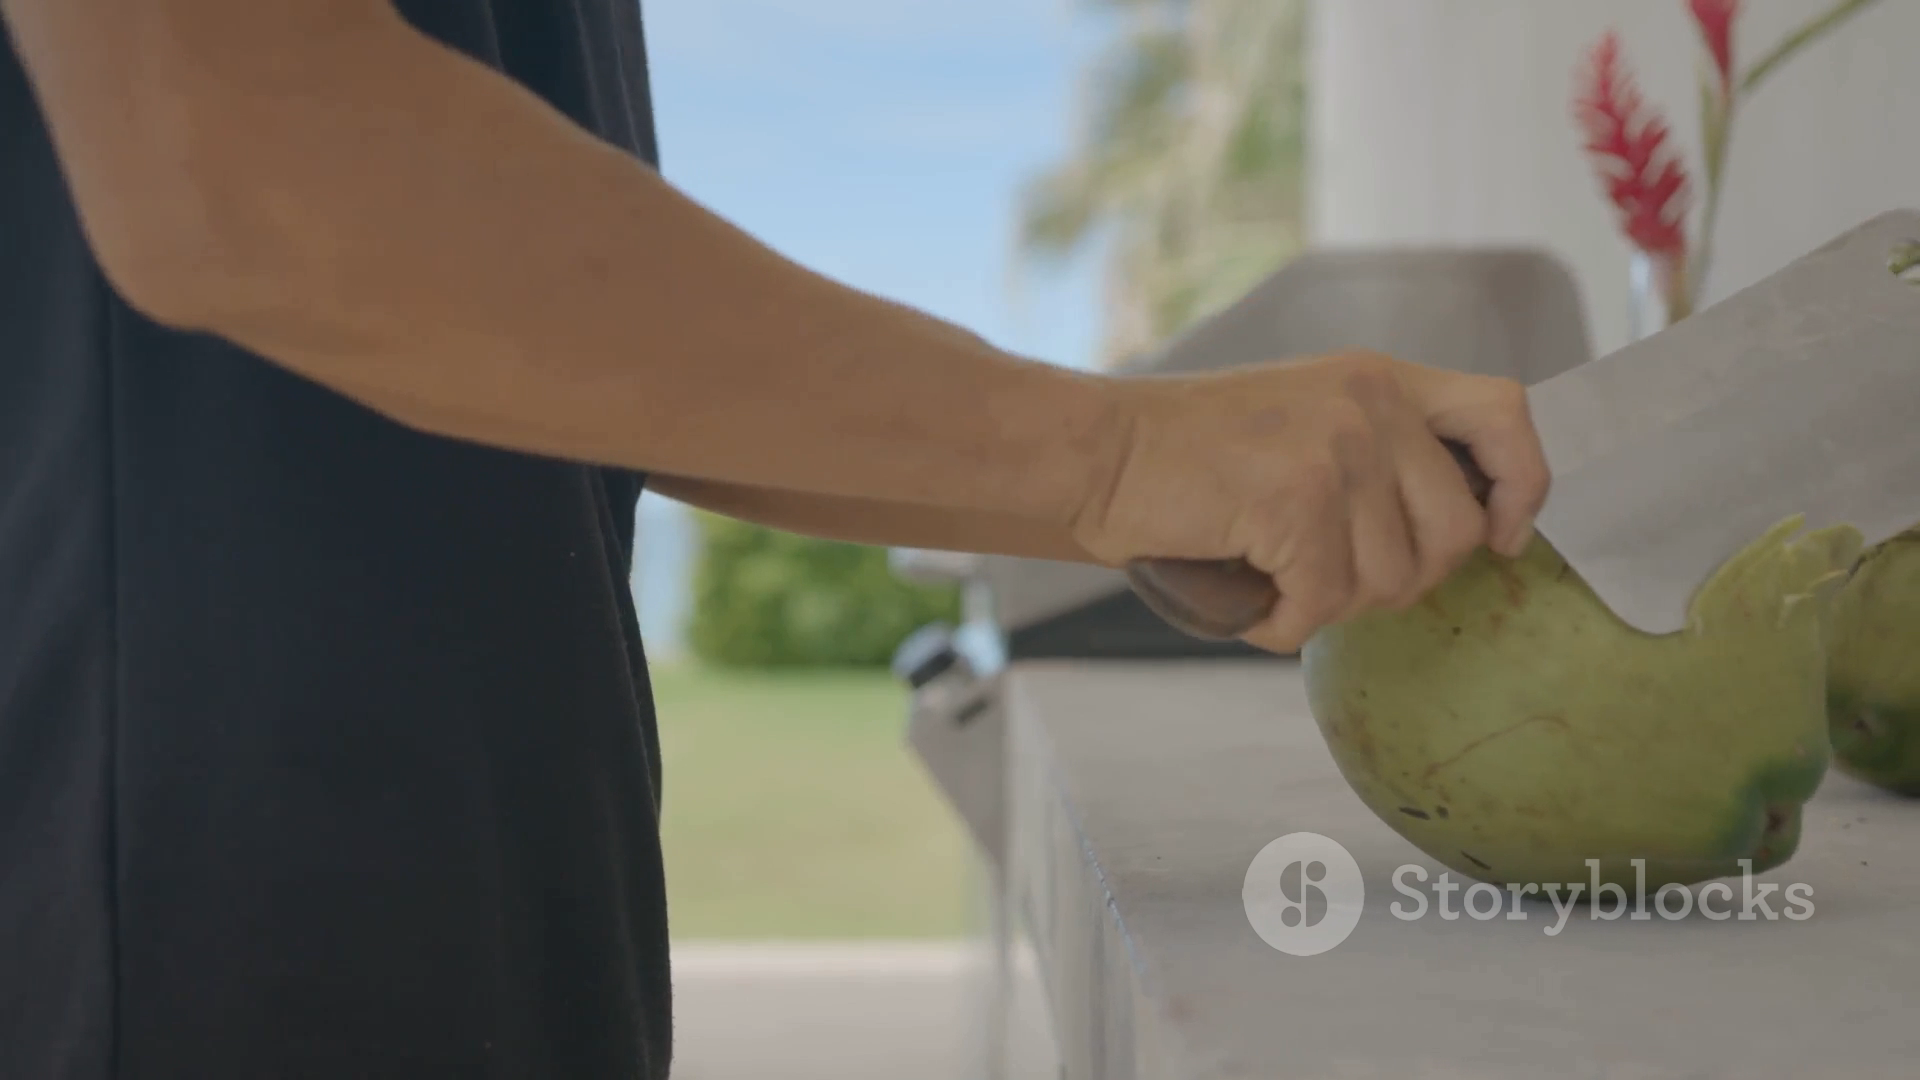cortante: (1516, 210, 1920, 636)
